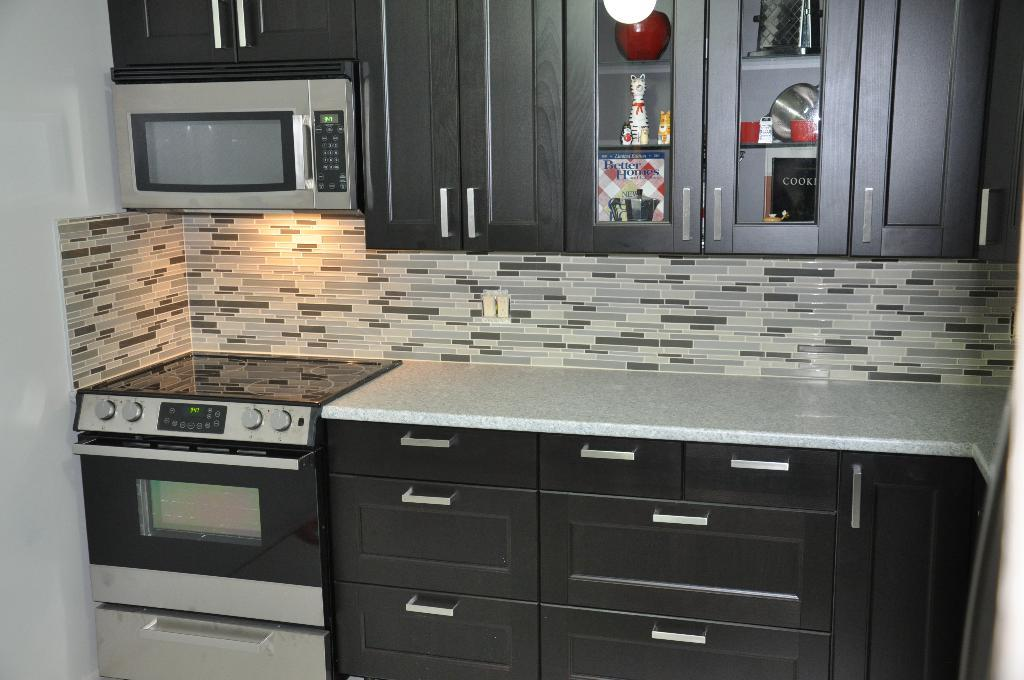cabinet_door: (542, 494, 824, 620), (563, 9, 701, 251), (706, 26, 846, 251), (454, 11, 566, 248), (324, 481, 534, 597), (866, 18, 968, 241), (546, 605, 826, 680), (364, 6, 450, 240), (334, 596, 536, 679), (332, 420, 531, 485), (986, 39, 1024, 254), (541, 434, 675, 494), (230, 9, 354, 68), (112, 1, 226, 62), (689, 446, 809, 501), (841, 475, 873, 678)
handle: (72, 437, 302, 476), (648, 500, 713, 536), (728, 452, 802, 479), (396, 483, 463, 511), (844, 461, 870, 532), (582, 436, 638, 468), (394, 429, 460, 456), (402, 594, 464, 622), (647, 624, 712, 650), (706, 187, 734, 247), (428, 183, 454, 243), (977, 182, 999, 248), (462, 182, 480, 242), (232, 7, 254, 54), (862, 186, 878, 244), (200, 9, 221, 51), (678, 188, 694, 243)
